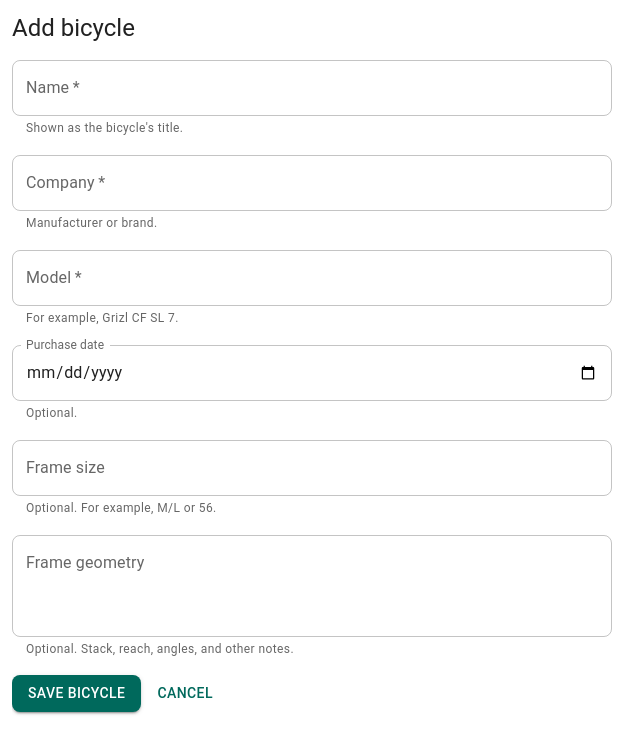
AddBicycle › explains a name rejected as duplicate
The width and height of the screenshot is (629, 732).
Click the button "Save bicycle" at (77, 694), box [12,676,141,712]
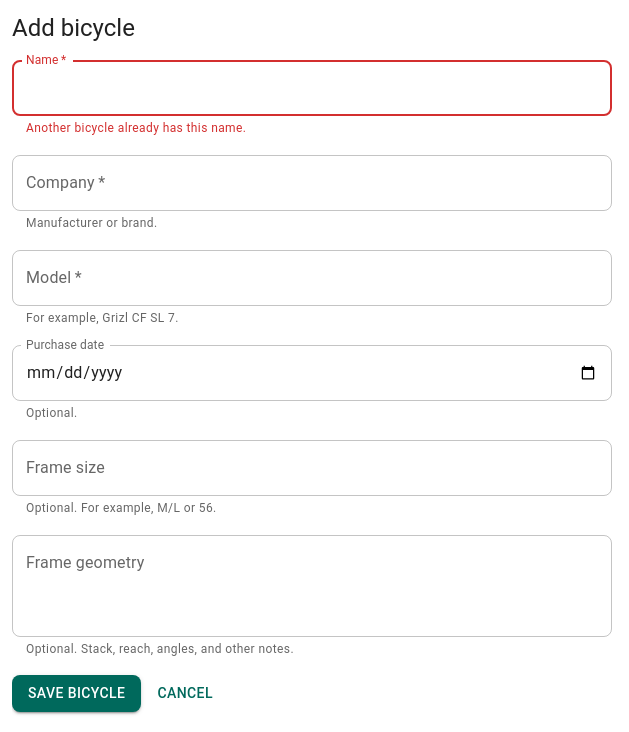
Check: the text "Another bicycle already has this name." is shown, box [26,121,246,135]
